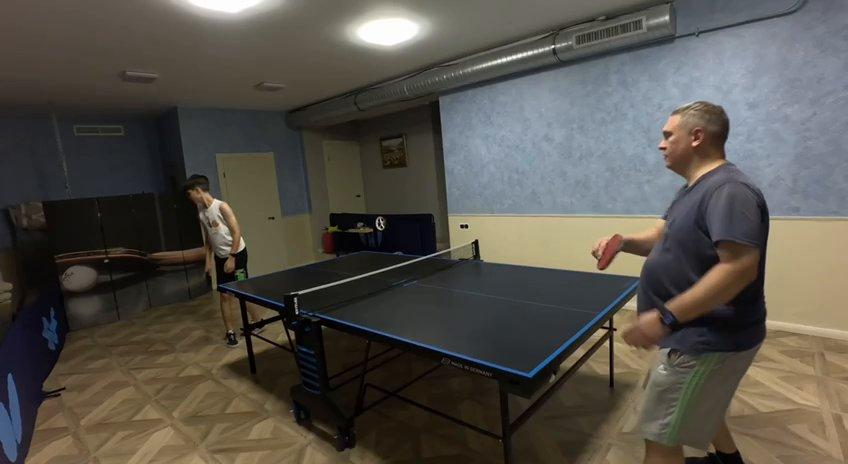Ball: (102, 257, 110, 266)
Net: (283, 240, 481, 321)
Player1: (186, 174, 246, 283)
Player2: (623, 116, 768, 463)
Table: (222, 253, 640, 377)
